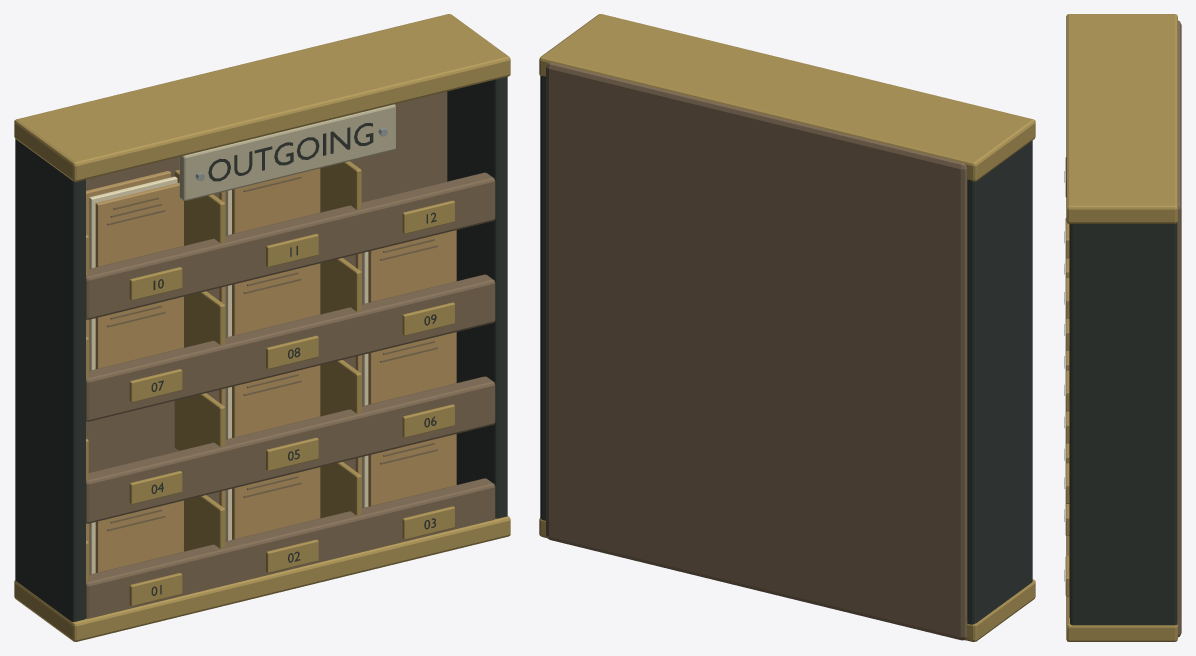
File: ticketcase.glb
3 views of the same model, side by side, from view 1: azimuth 30°, elevation 25°; view 2: azimuth 150°, elevation 25°; view 3: azimuth 270°, elevation 25° (orthographic). The views are drawn at different scales.
Visible parts, largest first — view 1: Annex_ticketcase; view 2: Annex_ticketcase; view 3: Annex_ticketcase.
Part boxes in pixels (x1,y1,x2,y2): Annex_ticketcase: (14,14,510,641); Annex_ticketcase: (539,14,1035,641); Annex_ticketcase: (1064,14,1181,641).
Bounding box in the file's own units: 1.11 × 1.16 × 0.2834.
